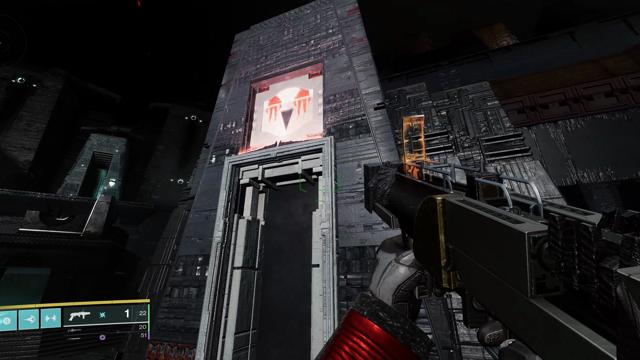give: (262, 87, 313, 136)
